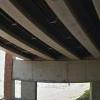Bridge: (10, 9, 88, 92)
